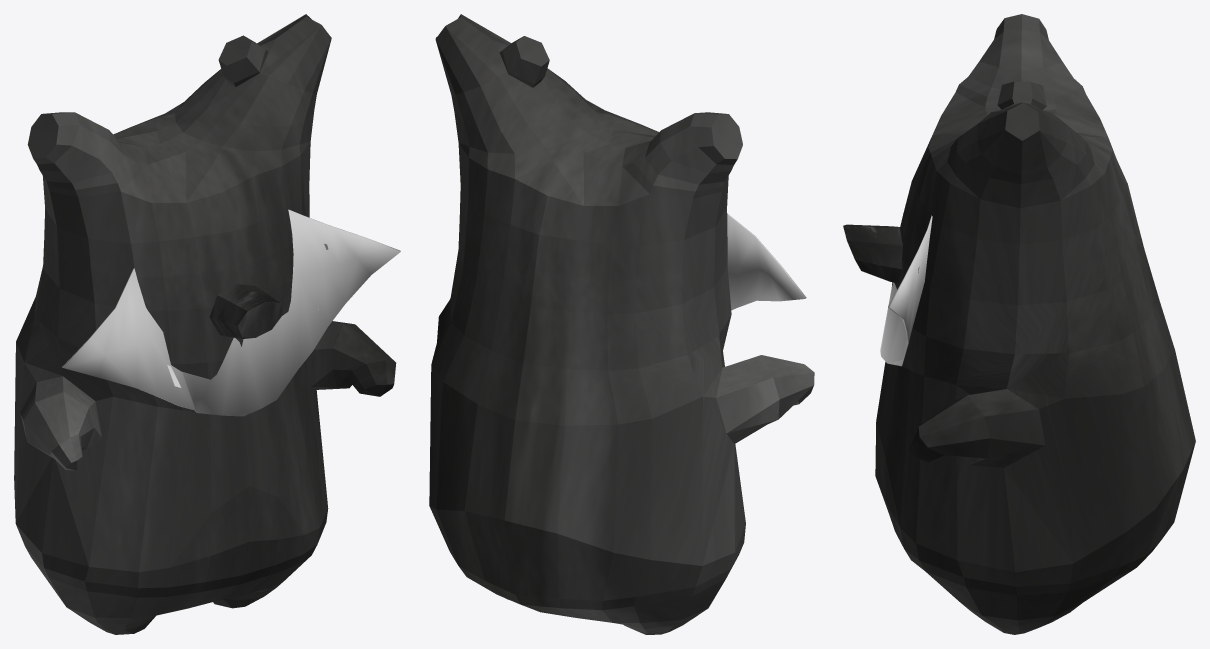
File: frame_0009.obj
The picture shows the model from 3 angles, left to right: view 1: azimuth 30°, elevation 25°; view 2: azimuth 150°, elevation 25°; view 3: azimuth 270°, elevation 25°; orthographic projection.
Visible parts, largest first — view 1: korok, leaf, nose; view 2: korok, leaf; view 3: korok, leaf, nose.
Boxes of the visible parts, x1=… form: korok: x1=14, y1=14, x2=396, y2=634; leaf: x1=62, y1=209, x2=400, y2=416; nose: x1=209, y1=283, x2=282, y2=338; korok: x1=429, y1=14, x2=814, y2=634; leaf: x1=727, y1=213, x2=806, y2=310; korok: x1=875, y1=14, x2=1195, y2=634; leaf: x1=880, y1=215, x2=932, y2=366; nose: x1=843, y1=224, x2=902, y2=283.
Bounding box in the file's own units: 1.43 × 2.25 × 1.28.
